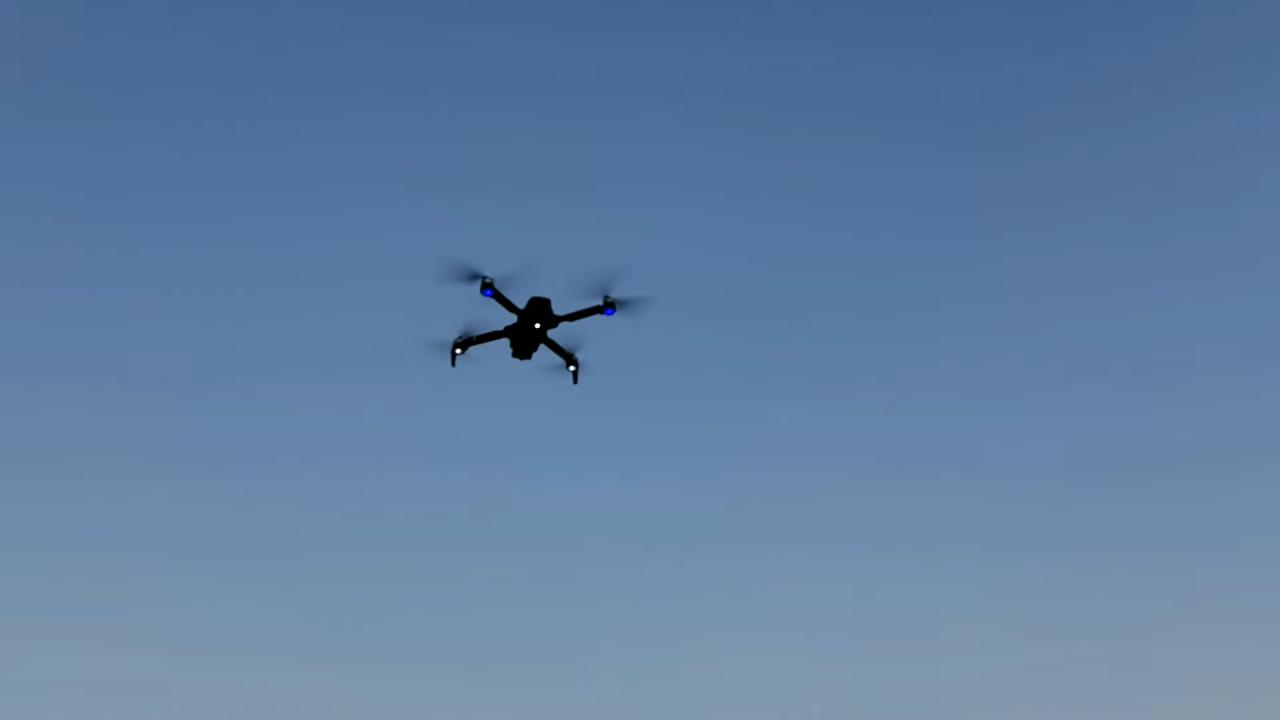Drone: (413, 242, 672, 400)
